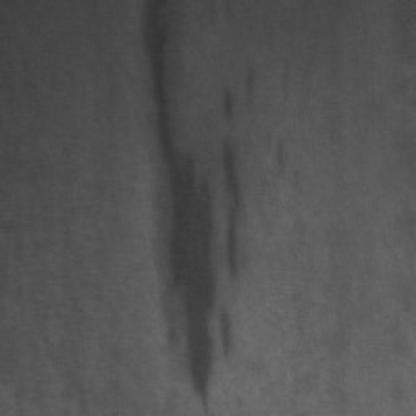inclusion: (150, 31, 258, 412)
